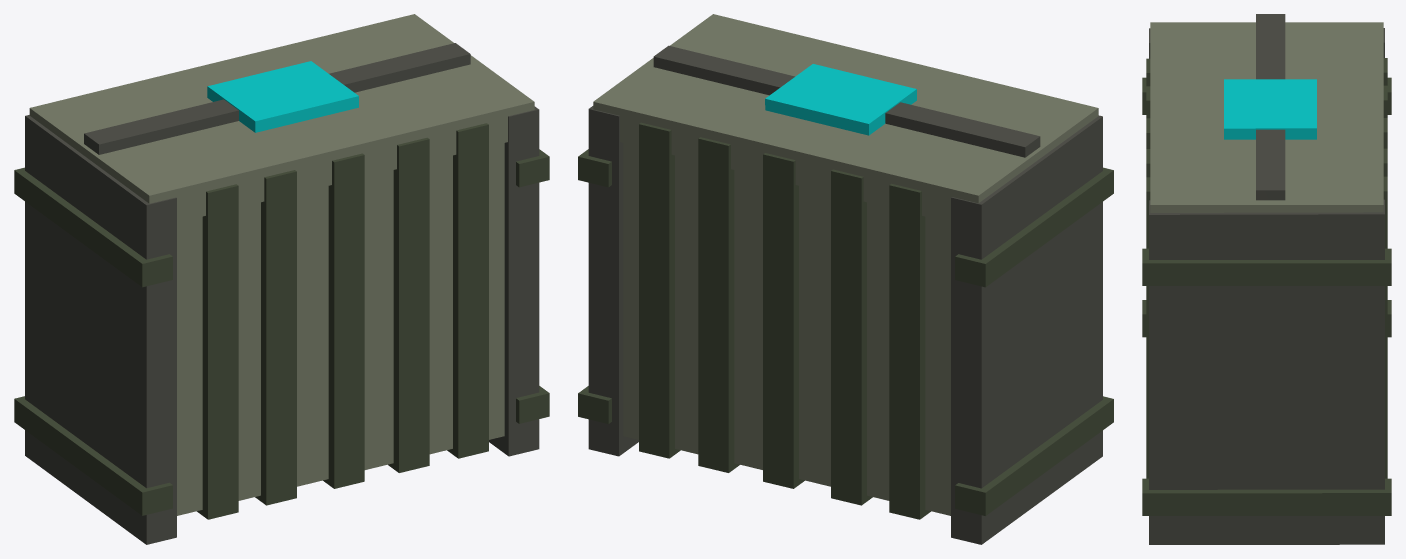
The model's file is crate 4.fbx.
3 views of the same model, side by side, from view 1: azimuth 30°, elevation 25°; view 2: azimuth 150°, elevation 25°; view 3: azimuth 270°, elevation 25° (orthographic). The views are drawn at different scales.
Parts seen in each view (by area): view 1: PM3D_Cube3D1_257; view 2: PM3D_Cube3D1_257; view 3: PM3D_Cube3D1_257.
Boxes of the visible parts, <box> form: PM3D_Cube3D1_257: <box>14,14,549,544</box>; PM3D_Cube3D1_257: <box>578,14,1113,544</box>; PM3D_Cube3D1_257: <box>1142,14,1391,544</box>.
Bounding box in the file's own units: 88.57 × 74.69 × 48.28.
